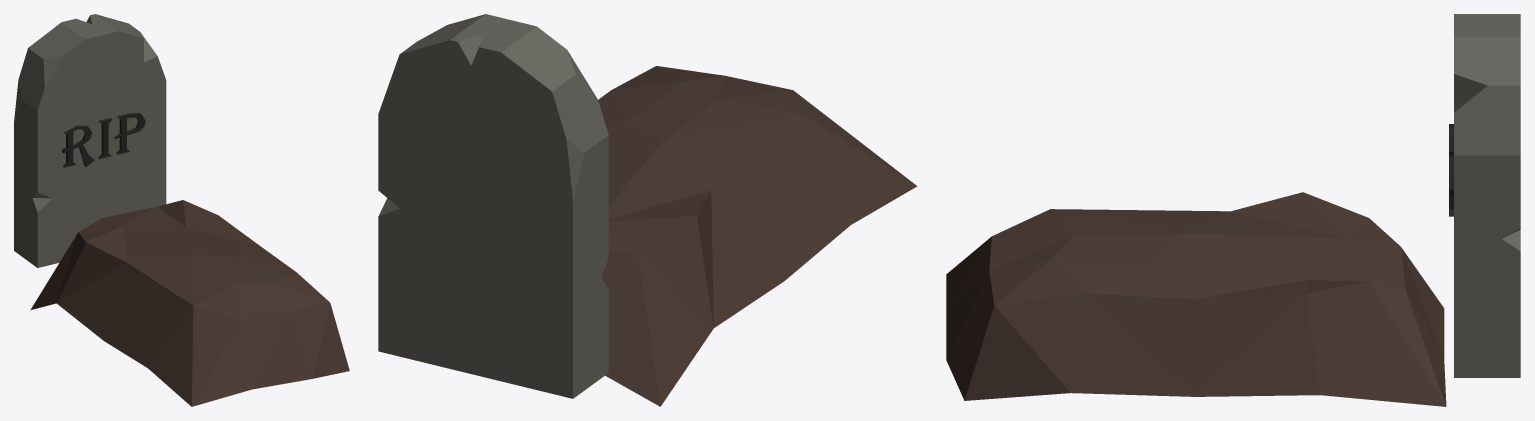
Rendered from LPHorror_GraveStone2.fbx.
The picture shows the model from 3 angles, left to right: view 1: azimuth 30°, elevation 25°; view 2: azimuth 150°, elevation 25°; view 3: azimuth 270°, elevation 25°; orthographic projection. The views are drawn at different scales.
Visible parts, largest first — view 1: GraveStone2; view 2: GraveStone2; view 3: GraveStone2.
Boxes of the visible parts, x1=… form: GraveStone2: x1=14, y1=14, x2=349, y2=406; GraveStone2: x1=378, y1=14, x2=917, y2=406; GraveStone2: x1=946, y1=14, x2=1520, y2=406.
Size of the model in its own units: 116 by 149 by 224.
